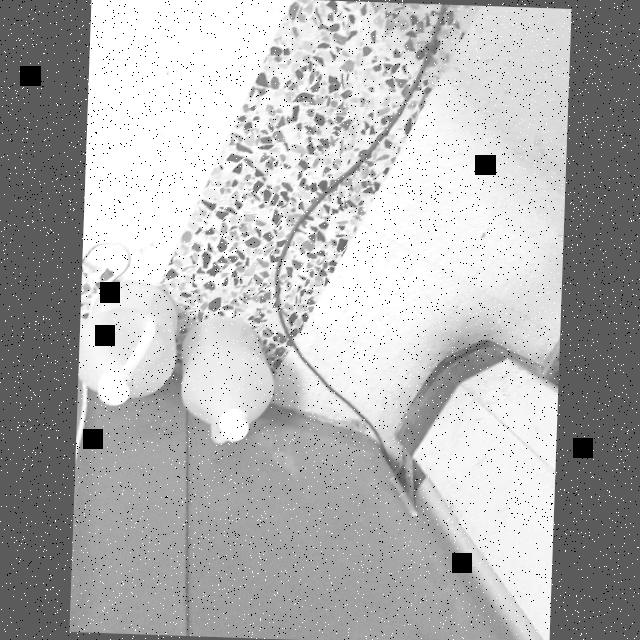chemical_plastic_gallon: (77, 272, 183, 415), (178, 307, 282, 447)
